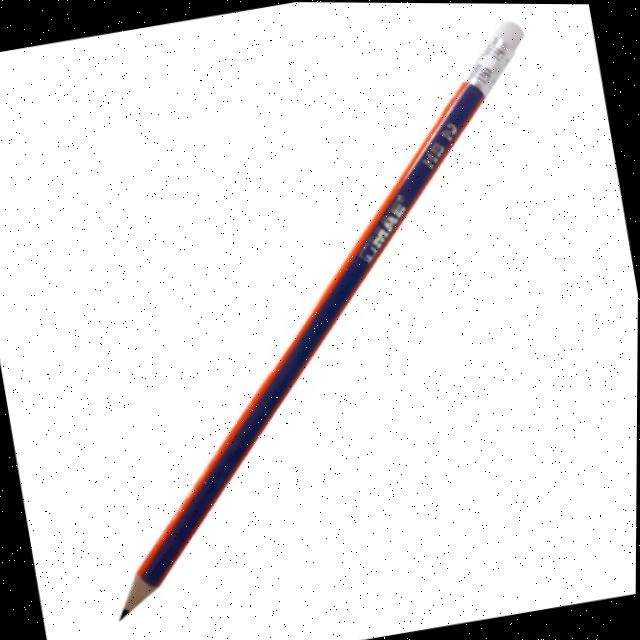pencil: (84, 3, 542, 640)
